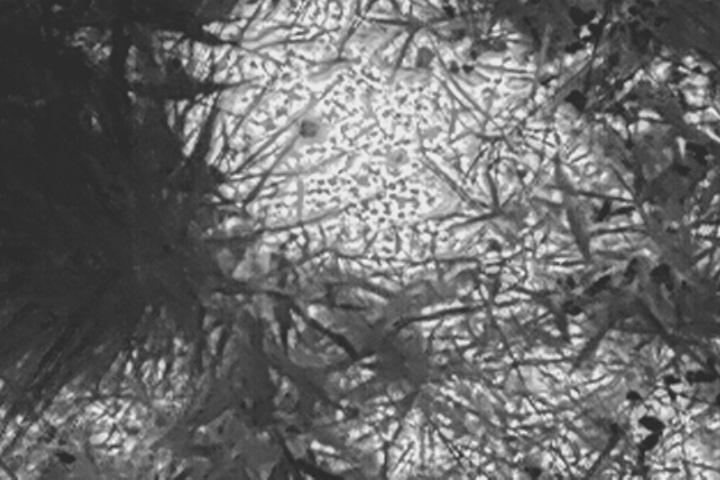landmine: (118, 0, 495, 264)
